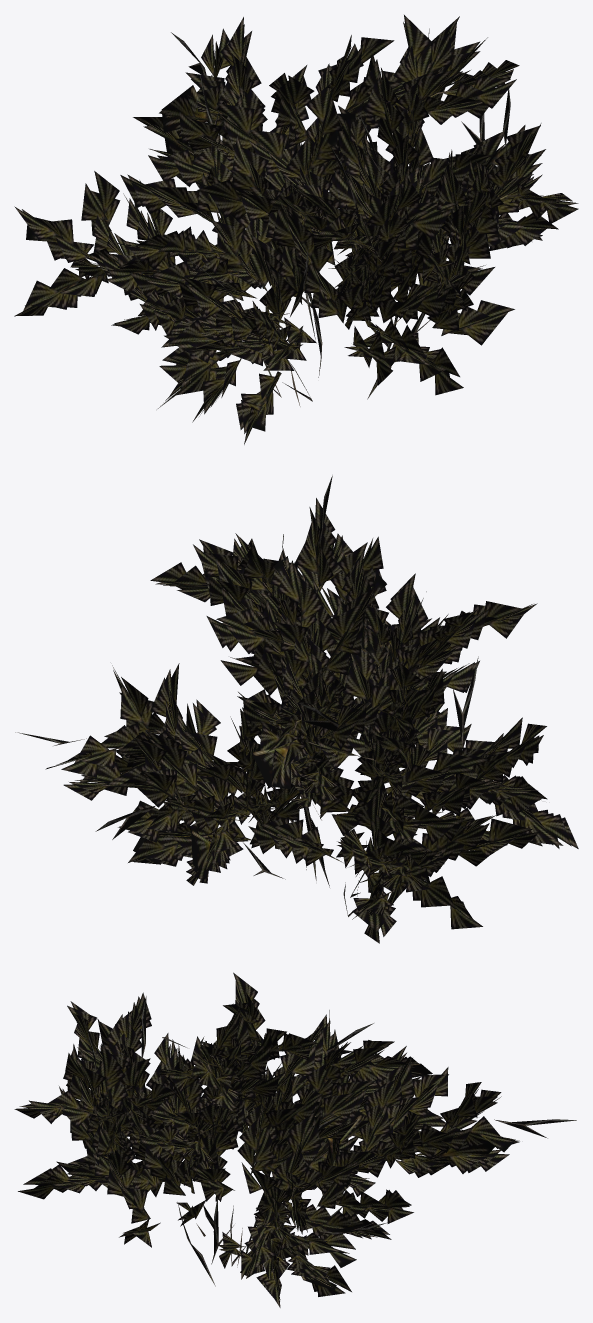
Rendered from wild_rooibos_bush-far.glb.
3 views of the same model, one above another, from view 1: azimuth 30°, elevation 25°; view 2: azimuth 150°, elevation 25°; view 3: azimuth 270°, elevation 25° (orthographic). The views are drawn at different scales.
Visible parts, largest first — view 1: wild_rooibos_bush_a; view 2: wild_rooibos_bush_a; view 3: wild_rooibos_bush_a.
Boxes of the visible parts, x1,y1,x2,y2 form: wild_rooibos_bush_a: (14,15,578,444); wild_rooibos_bush_a: (15,475,578,943); wild_rooibos_bush_a: (14,972,576,1307).
Bounding box in the file's own units: 0.6852 × 0.5006 × 0.8279.
2 materials, 2 textured.
